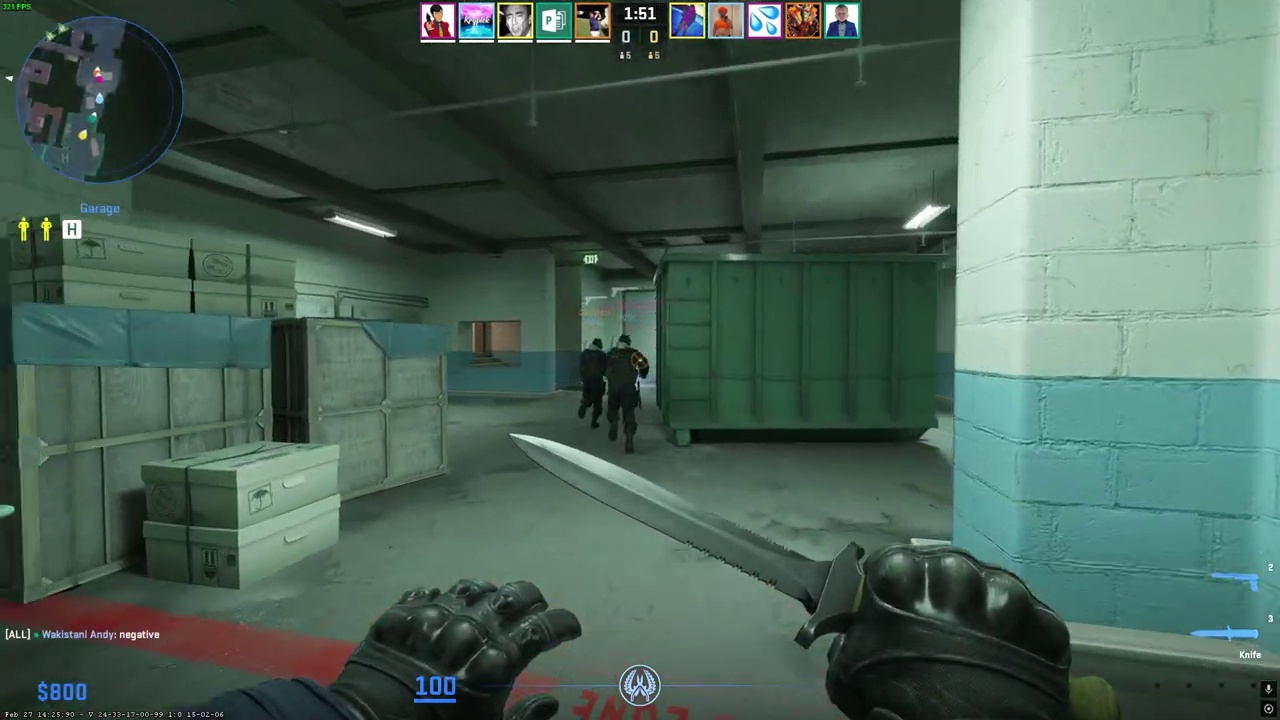CT: (605, 333, 649, 454), (578, 338, 609, 429)
